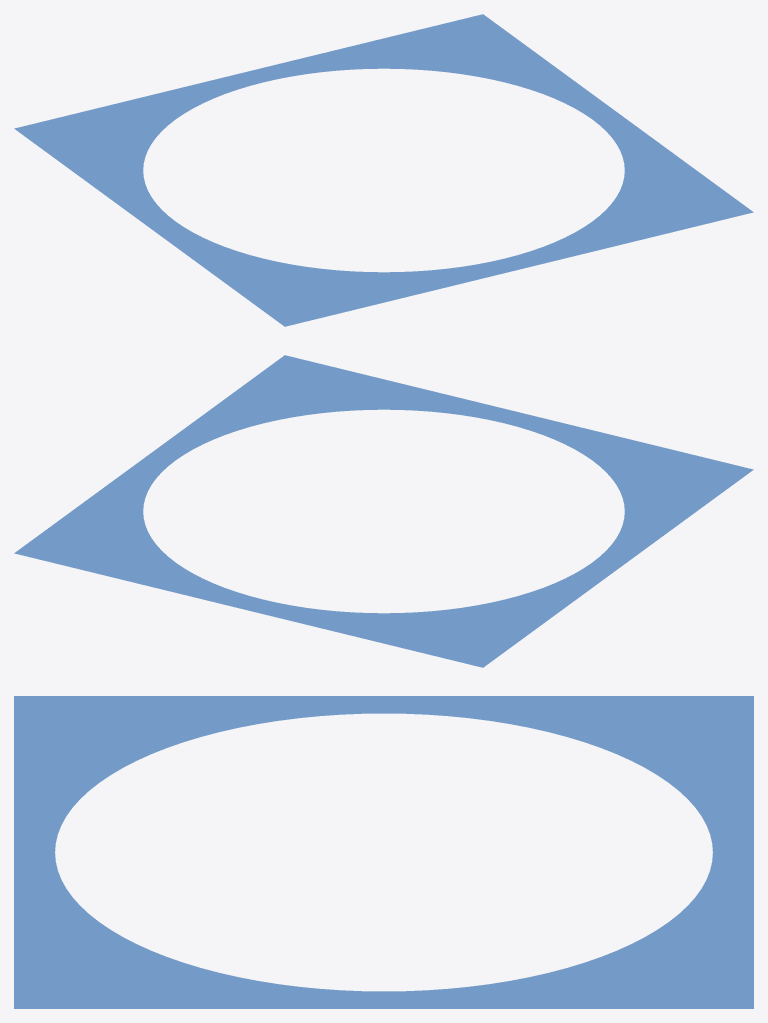
File: water-swell-48-far.glb
The picture shows the model from 3 angles, top to bottom: view 1: azimuth 30°, elevation 25°; view 2: azimuth 150°, elevation 25°; view 3: azimuth 270°, elevation 25°; orthographic projection. The views are drawn at different scales.
Parts seen in each view (by area): view 1: SwellFar; view 2: SwellFar; view 3: SwellFar.
Boxes of the visible parts, bbox=[...] form: SwellFar: bbox=[14, 14, 753, 326]; SwellFar: bbox=[14, 355, 753, 667]; SwellFar: bbox=[14, 696, 753, 1008].
Bounding box in the file's own units: 1152 × 0 × 1152.
